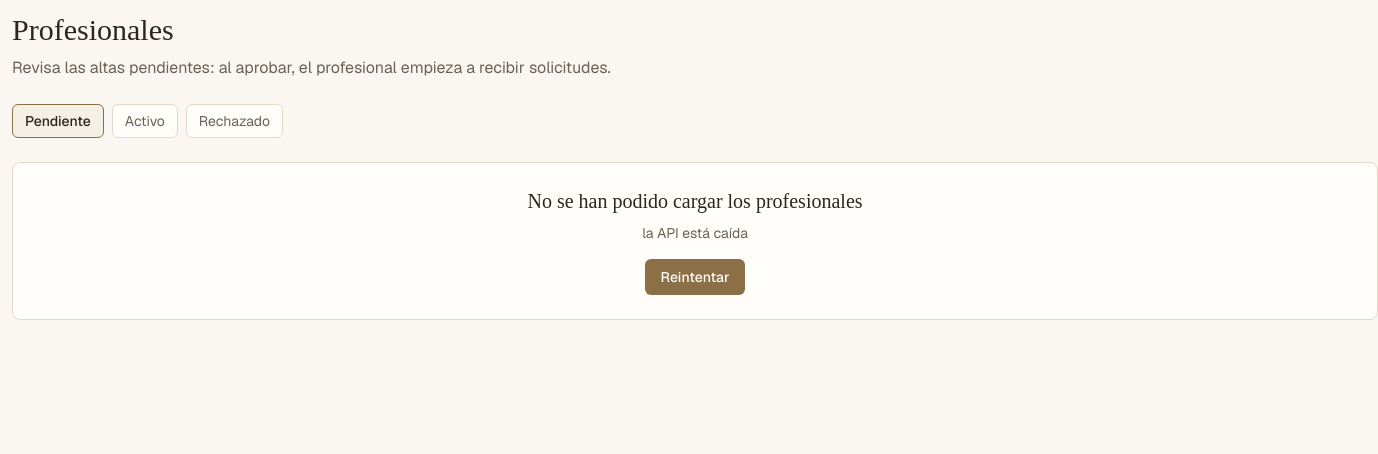
Test: PanelProfesionales › si_la_carga_falla_muestra_el_error_y_permite_reintentar
The width and height of the screenshot is (1378, 454).
Check: the message shows "la API está caída", box [642,224,748,242]
Click the button "Reintentar" at point(695, 277), box [645,259,745,295]
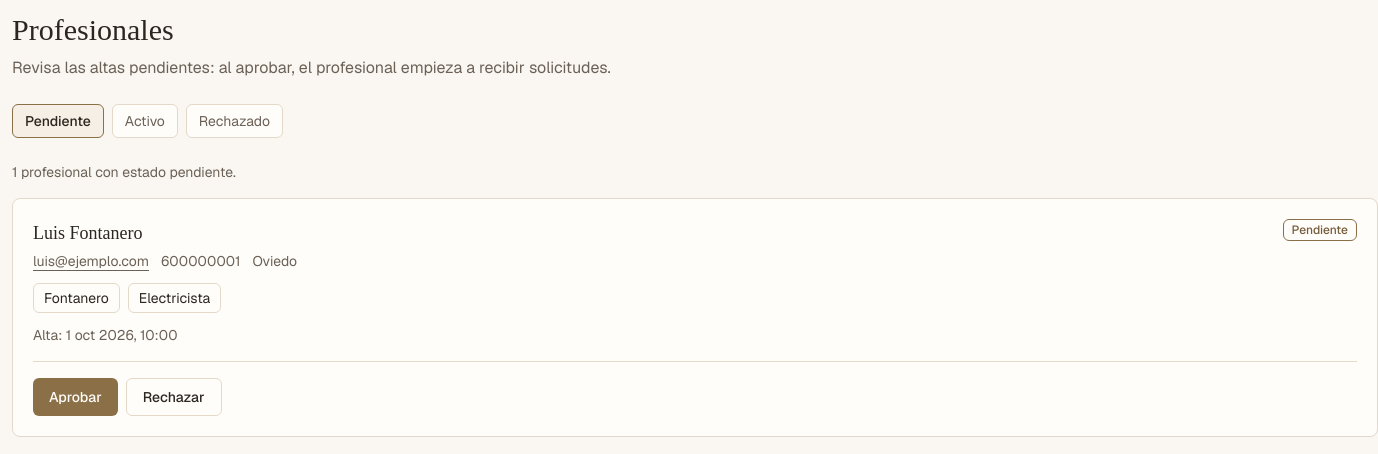
Check: the heading "Luis Fontanero" is shown, box [33,223,142,243]
